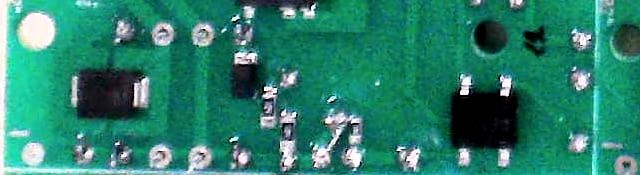chip-resistor: (261, 93, 276, 125), (281, 116, 295, 149), (350, 119, 361, 143)
diode: (71, 71, 152, 119), (234, 52, 257, 99)
ic: (451, 73, 518, 168)
